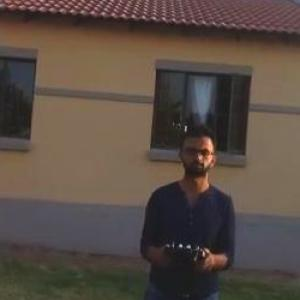follow: (130, 112, 235, 298)
